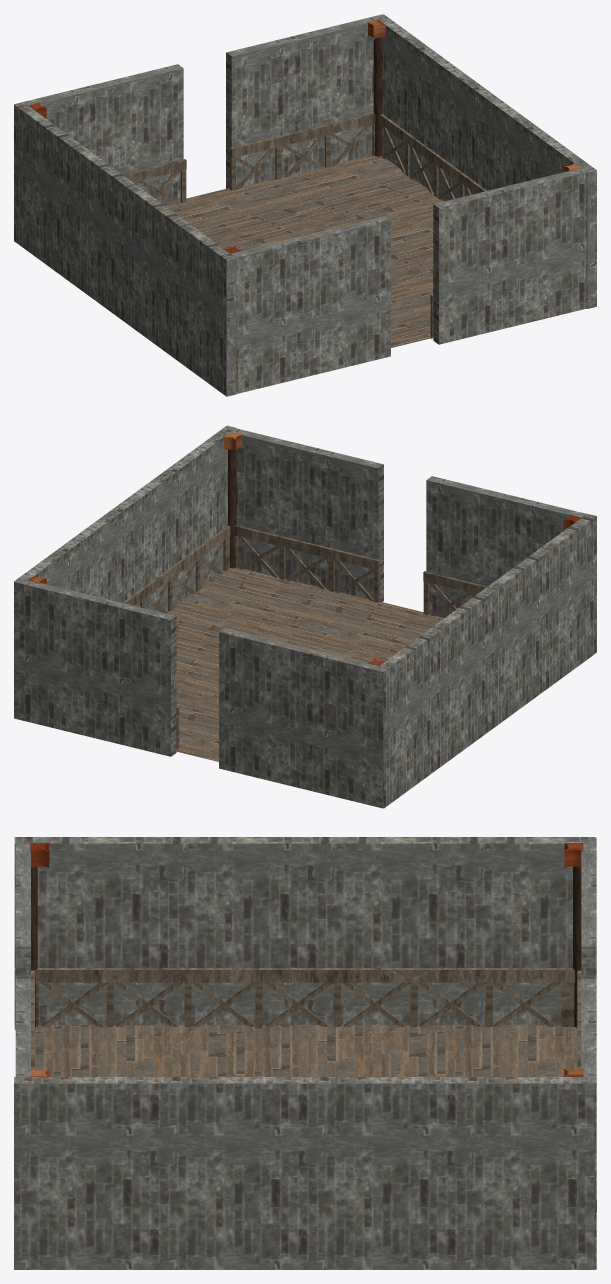
File: 2 Puertas.fbx
3 views of the same model, one above another, from view 1: azimuth 30°, elevation 25°; view 2: azimuth 150°, elevation 25°; view 3: azimuth 270°, elevation 25° (orthographic). The views are drawn at different scales.
Parts seen in each view (by area): view 1: polySurface188; view 2: polySurface188; view 3: polySurface188.
Boxes of the visible parts, x1,y1,x2,y2 form: polySurface188: (14,14,596,396); polySurface188: (14,425,596,808); polySurface188: (14,837,596,1269).
Bounding box in the file's own units: 470 × 166 × 470.
5 materials, 5 textured.
